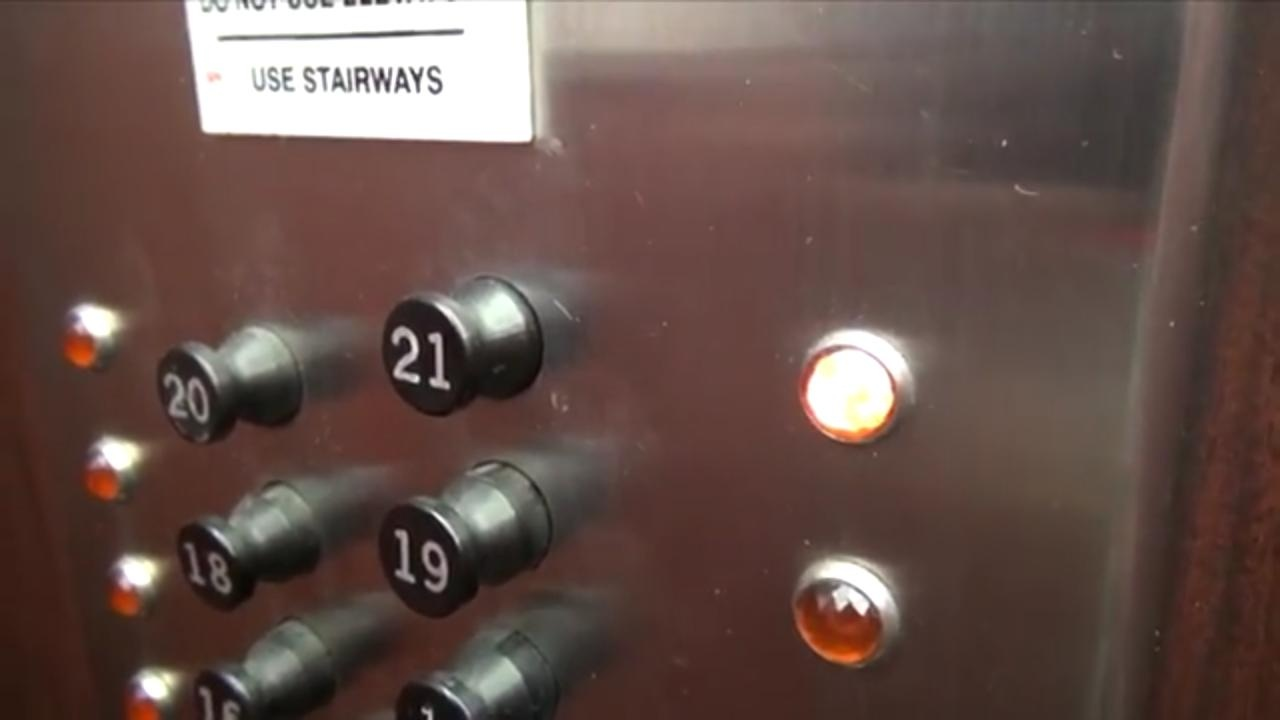18: (171, 483, 329, 609)
19: (378, 456, 553, 618)
20: (151, 322, 308, 446)
21: (378, 283, 545, 420)
indicator: (792, 324, 918, 456), (792, 558, 906, 669), (78, 430, 151, 505), (51, 303, 127, 375), (102, 546, 169, 620), (108, 662, 181, 720)
